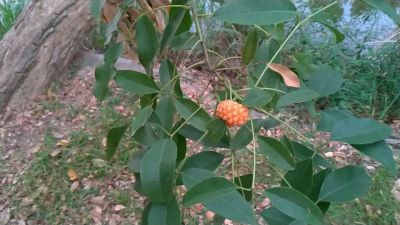eggs: (213, 97, 257, 131)
